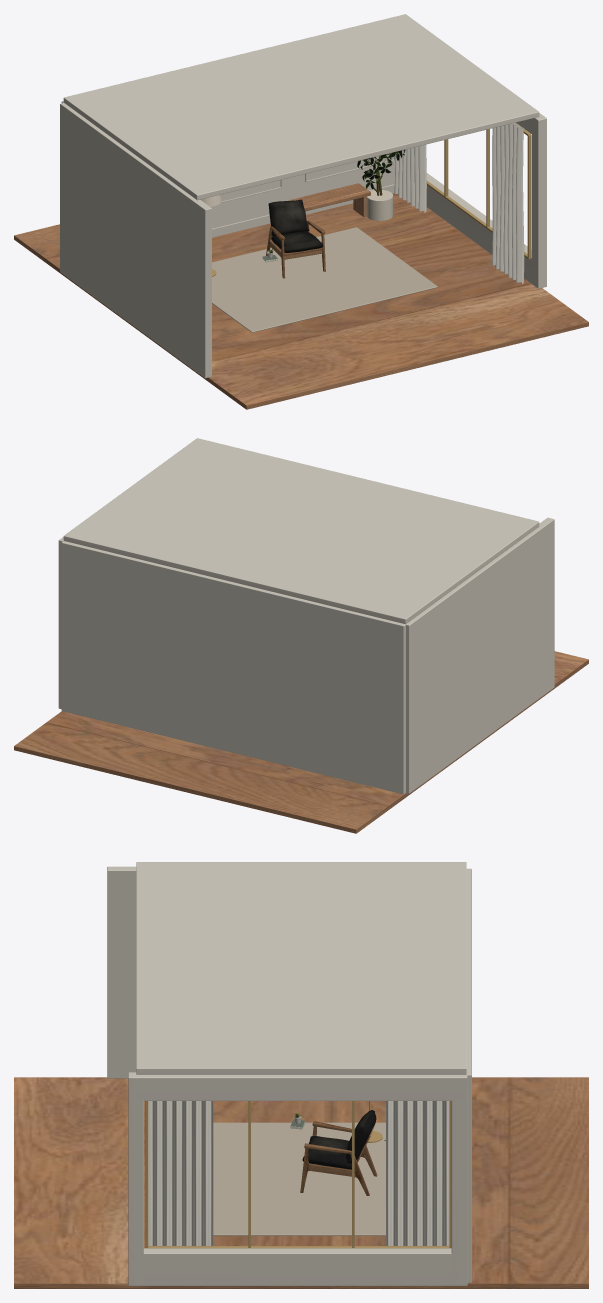
File: lounge-interior.glb
3 renders of one model, top to bottom at view 1: azimuth 30°, elevation 25°; view 2: azimuth 150°, elevation 25°; view 3: azimuth 270°, elevation 25°, orthographic. The views are drawn at different scales.
Visible parts, largest first — view 1: Ceiling, Solid oak floor, Left return, Woven area rug, Pleated curtain, Back plaster wall, modern_arm_chair_01, Window wall pier, Window wall sill, Pleated curtain.001, Oak low bench, Skirting back (+3 smaller); view 2: Back plaster wall, Ceiling, Left return, Solid oak floor, Window wall pier.001; view 3: Ceiling, Solid oak floor, Woven area rug, Window wall sill, Pleated curtain, Pleated curtain.001, Window wall lintel, Left return, Window wall pier.001, Window wall pier, modern_arm_chair_01, Back plaster wall (+2 smaller).
Part boxes in pixels (box(x1,y1,x2,y2)): Ceiling: box(63, 14, 539, 200); Solid oak floor: box(14, 193, 588, 409); Left return: box(60, 103, 211, 378); Woven area rug: box(212, 227, 437, 332); Pleated curtain: box(492, 123, 524, 283); Back plaster wall: box(61, 101, 395, 228); modern_arm_chair_01: box(266, 199, 325, 278); Window wall pier: box(532, 114, 546, 288); Window wall sill: box(426, 173, 534, 283); Pleated curtain.001: box(394, 144, 426, 212); Oak low bench: box(288, 183, 370, 211); Skirting back: box(212, 184, 394, 237); Back plaster wall: box(61, 541, 405, 794); Ceiling: box(63, 438, 539, 624); Left return: box(405, 517, 554, 793); Solid oak floor: box(14, 651, 588, 833); Window wall pier.001: box(58, 537, 63, 709); Ceiling: box(136, 862, 466, 1074); Solid oak floor: box(14, 1077, 588, 1288); Woven area rug: box(213, 1122, 385, 1235); Window wall sill: box(137, 1248, 465, 1285); Pleated curtain: box(145, 1101, 213, 1247); Pleated curtain.001: box(386, 1101, 449, 1245); Window wall lintel: box(137, 1074, 465, 1100); Left return: box(107, 866, 136, 1078); Window wall pier.001: box(451, 1074, 467, 1285); Window wall pier: box(128, 1072, 143, 1285); modern_arm_chair_01: box(300, 1110, 377, 1195); Back plaster wall: box(466, 868, 471, 1282).
Bounding box in the file's own units: 6.96 × 3.39 × 8.
16 materials, 6 textured.
